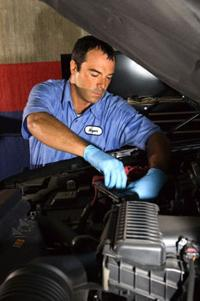person: (19, 32, 171, 203)
